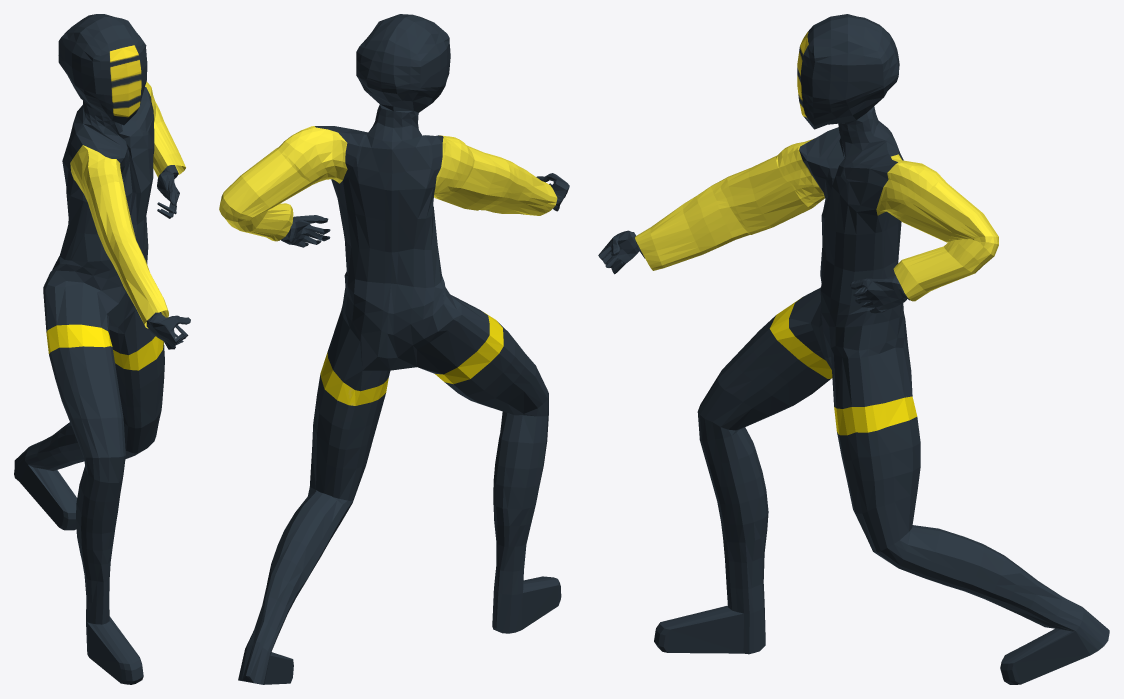
File: Sentry_WL_000004.obj
The picture shows the model from 3 angles, left to right: view 1: azimuth 30°, elevation 25°; view 2: azimuth 150°, elevation 25°; view 3: azimuth 270°, elevation 25°; orthographic projection. The views are drawn at different scales.
Visible parts, largest first — view 1: Cube; view 2: Cube; view 3: Cube.
Part boxes in pixels (x1=…): Cube: x1=14, y1=14, x2=190, y2=684; Cube: x1=219, y1=14, x2=569, y2=684; Cube: x1=598, y1=14, x2=1109, y2=684.
Size of the model in its own units: 1.2 by 3.6 by 2.53.
